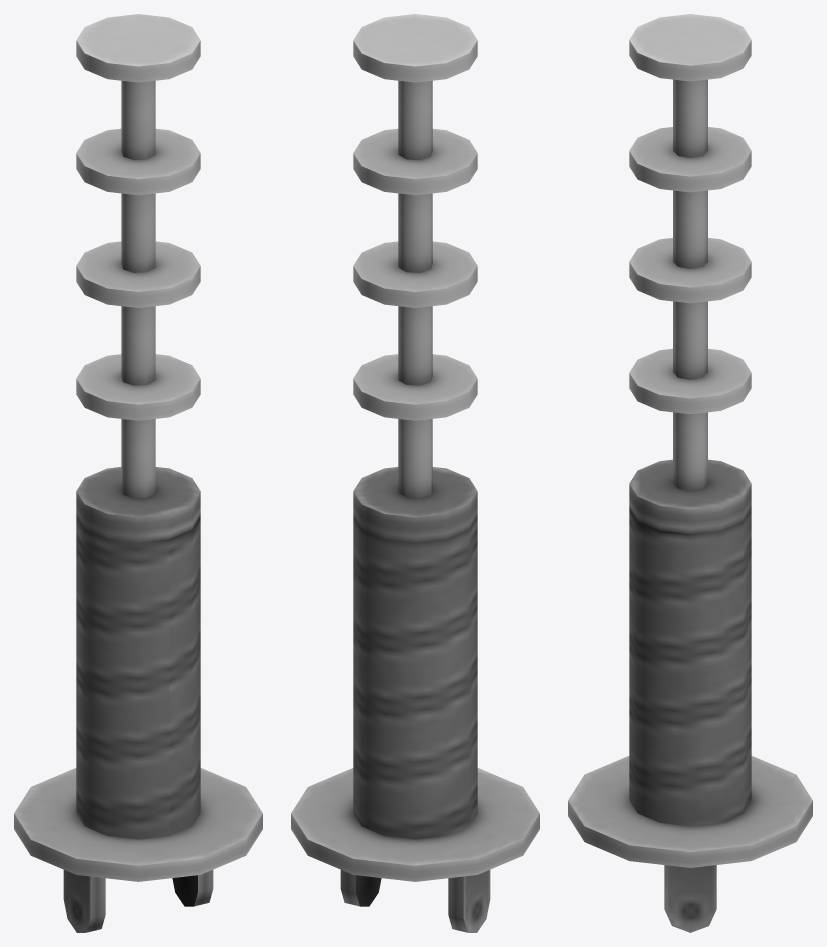
The model's file is hghg.obj.
3 renders of one model, left to right at view 1: azimuth 30°, elevation 25°; view 2: azimuth 150°, elevation 25°; view 3: azimuth 270°, elevation 25°, orthographic.
Visible parts, largest first — view 1: 1; view 2: 1; view 3: 1.
Part boxes in pixels (x1=…): 1: x1=14, y1=14, x2=262, y2=932; 1: x1=291, y1=14, x2=539, y2=932; 1: x1=568, y1=14, x2=812, y2=932.
Bounding box in the file's own units: 0.175 × 0.6813 × 0.175.
Materials: 1 (1 with a texture image).
